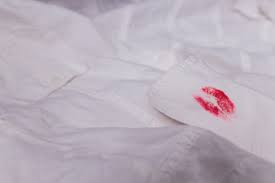kimchi: (192, 87, 234, 119)
